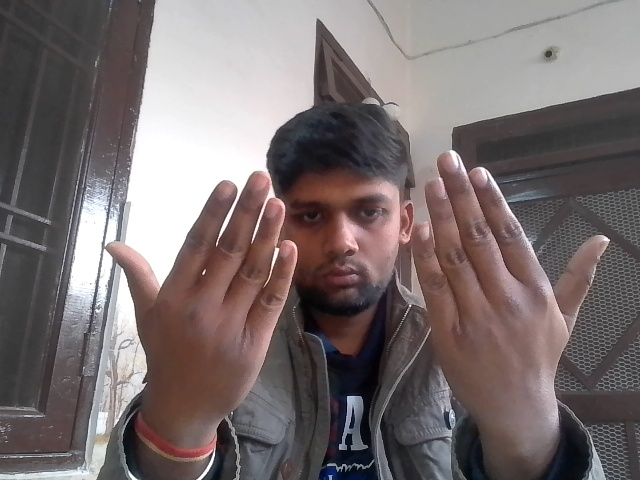ThankYou: (101, 145, 610, 407)
